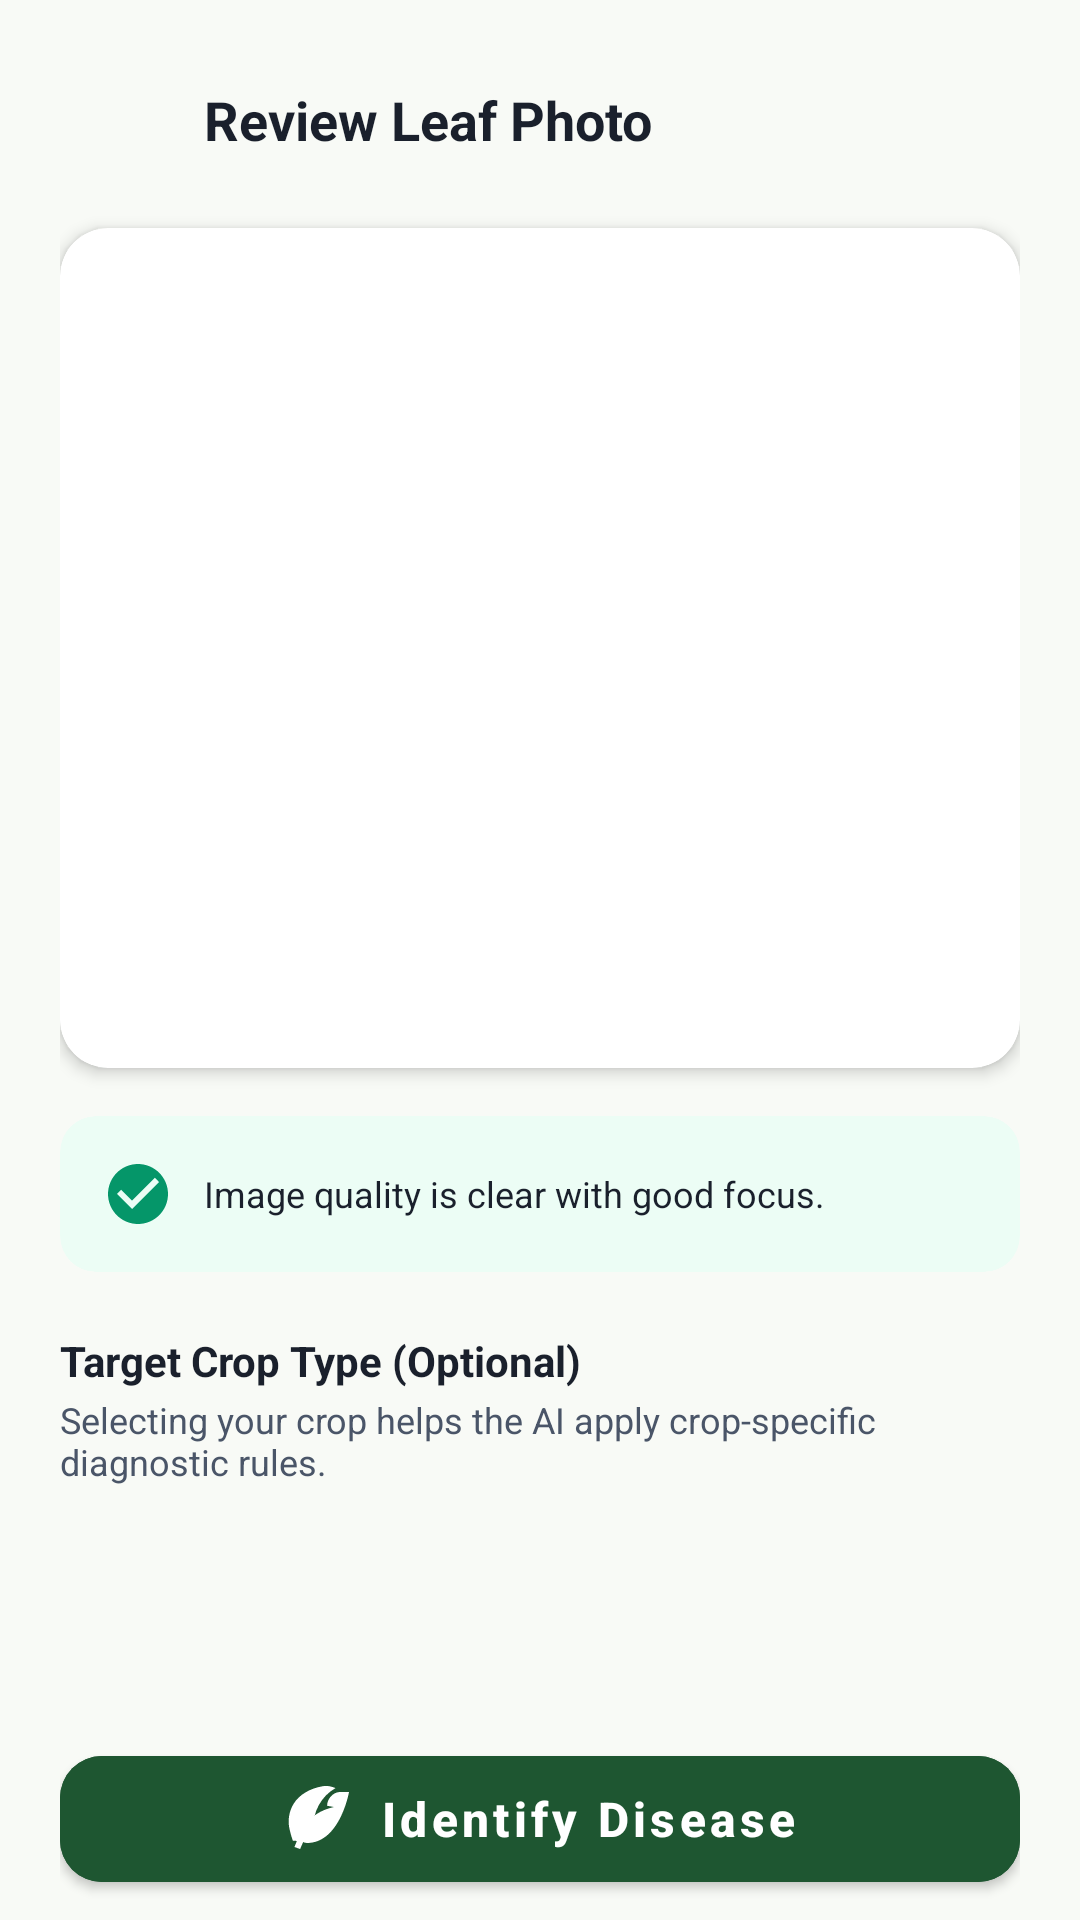

Screen size 1080*1920. Icon name, then its box in pixels as region(x1, y1, x2, y2):
Quality indicator: region(108, 1164, 168, 1224)
